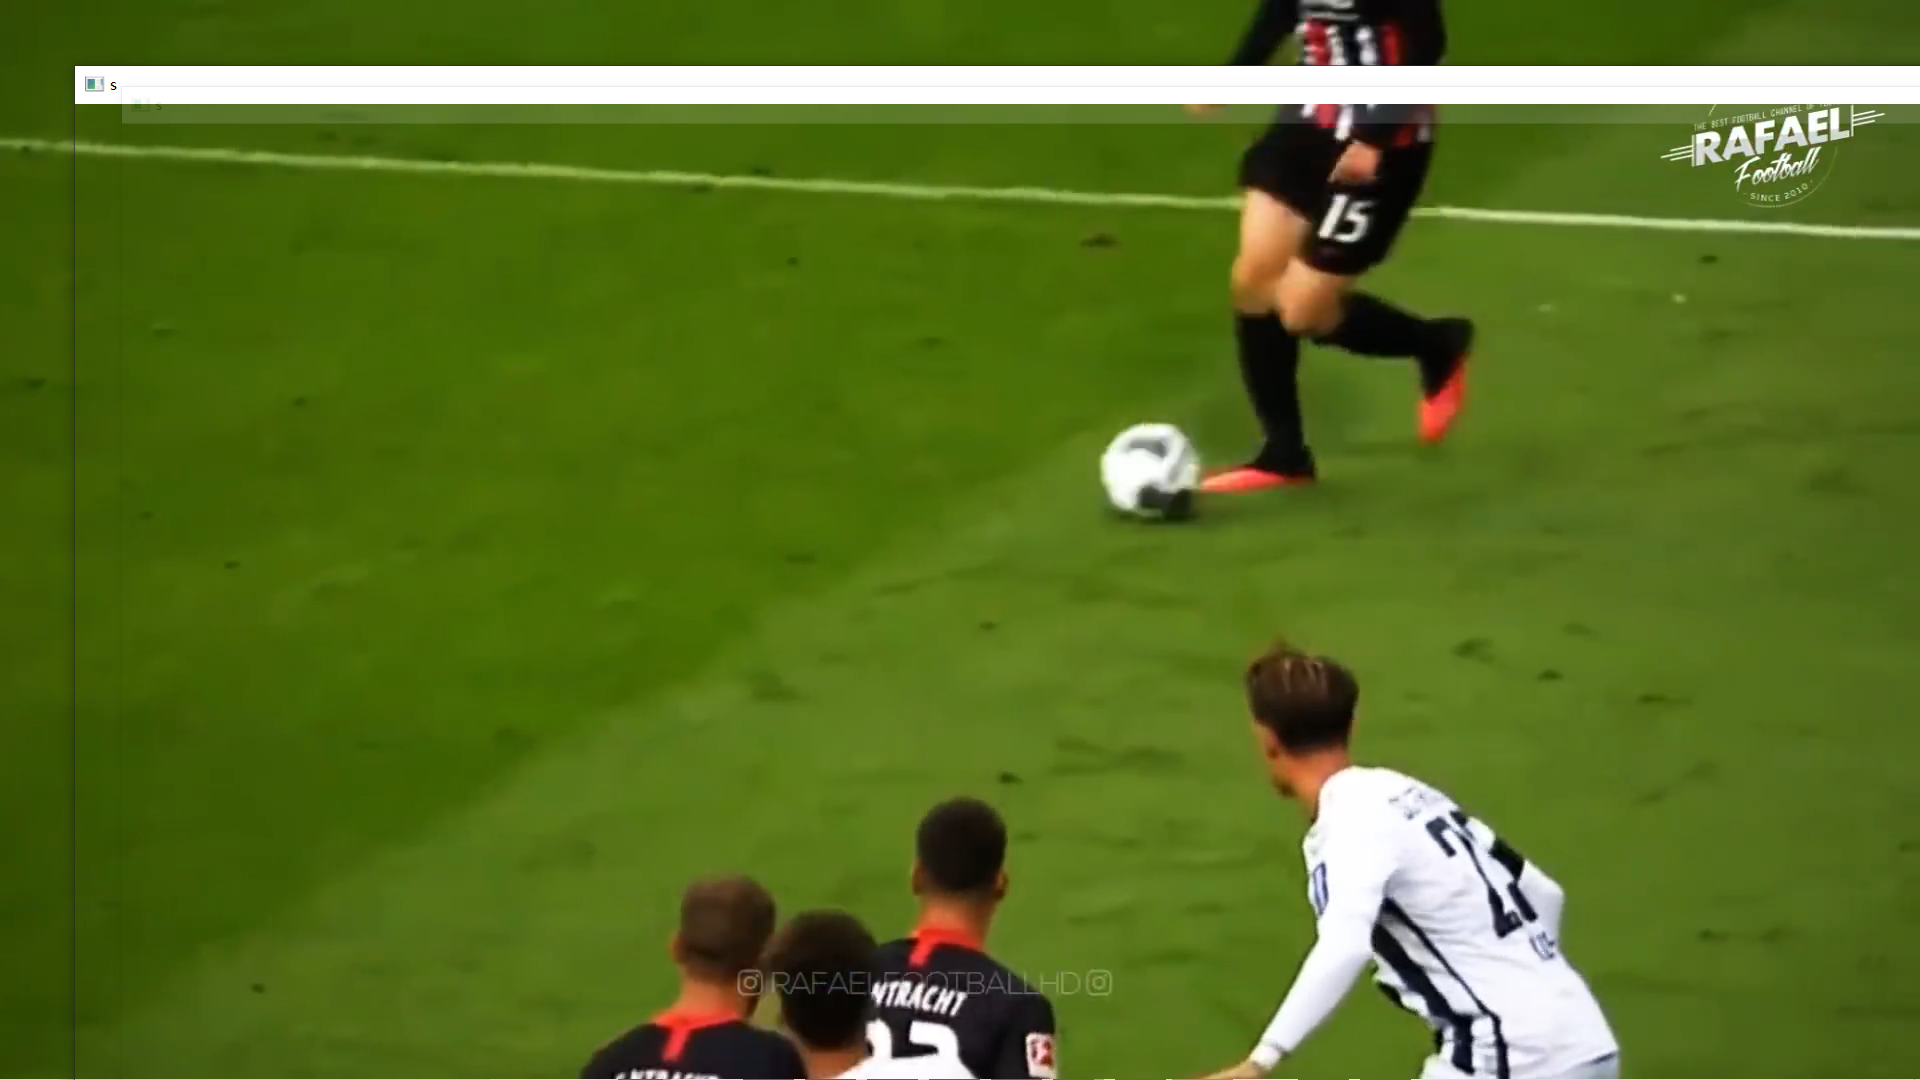ft: (1083, 404, 1211, 542)
